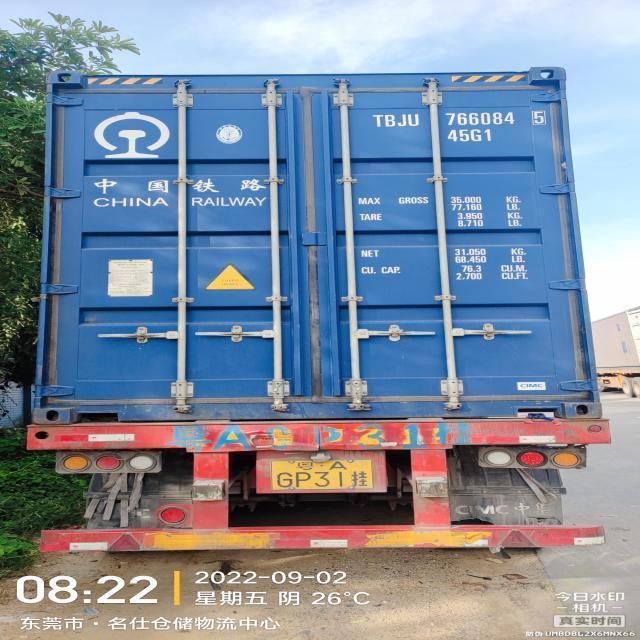ISO: (450, 128, 492, 144)
container_number: (372, 111, 542, 130)
